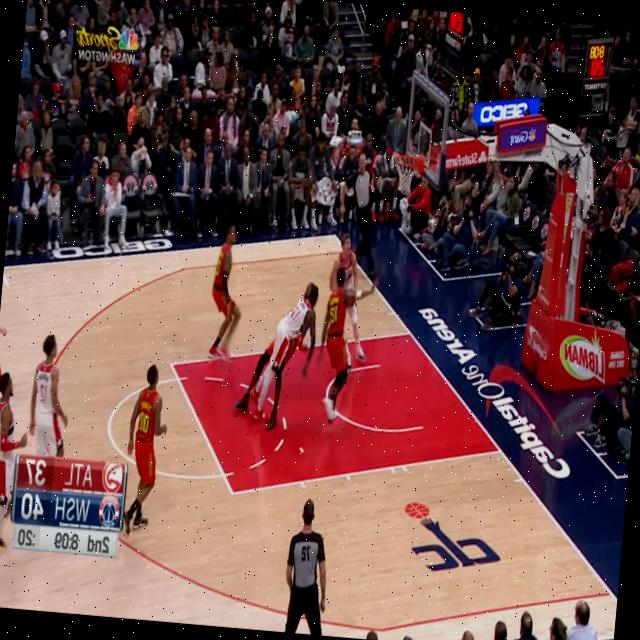Foul: (276, 301, 333, 472)
